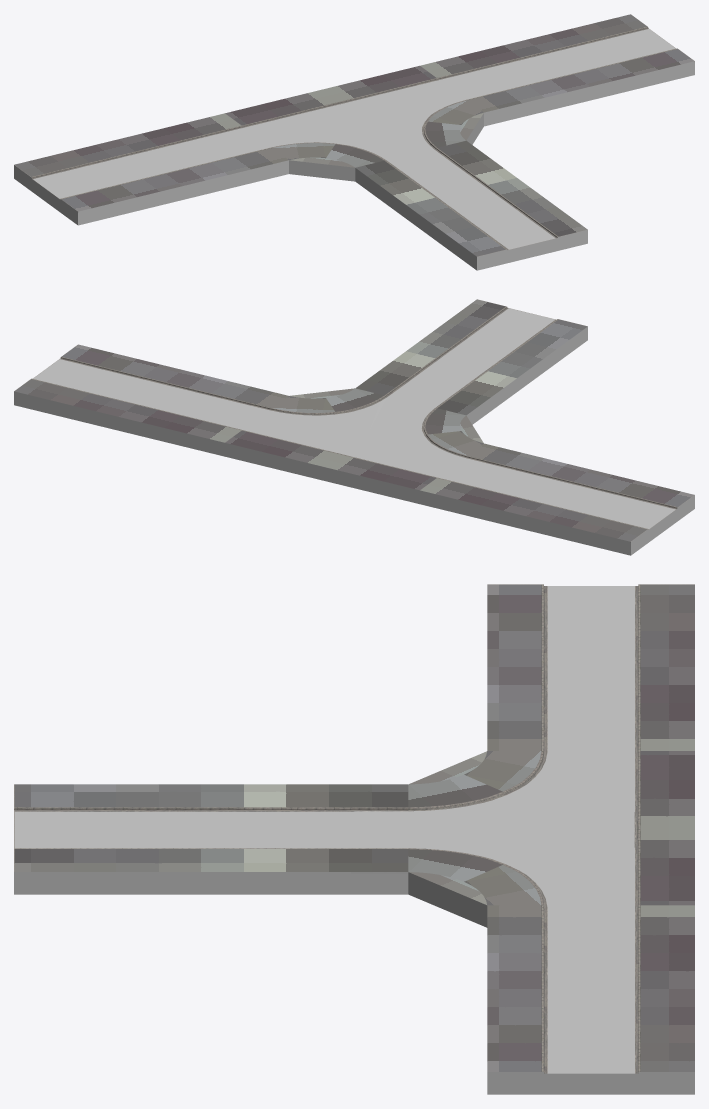
File: Road_02a_t.fbx
3 views of the same model, one above another, from view 1: azimuth 30°, elevation 25°; view 2: azimuth 150°, elevation 25°; view 3: azimuth 270°, elevation 25° (orthographic). The views are drawn at different scales.
Visible parts, largest first — view 1: Road_02a_t; view 2: Road_02a_t; view 3: Road_02a_t.
Boxes of the visible parts, x1,y1,x2,y2 form: Road_02a_t: (14,14,694,270); Road_02a_t: (14,299,694,555); Road_02a_t: (14,584,694,1094).
Size of the model in its own units: 100 by 2.16 by 59.
